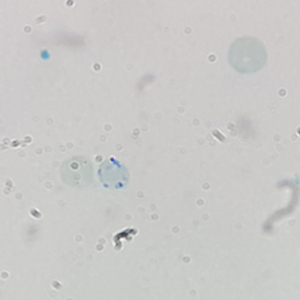aggregate reticulocyte: (97, 155, 132, 192)
erythrocyte: (227, 35, 269, 75), (59, 154, 97, 190)
